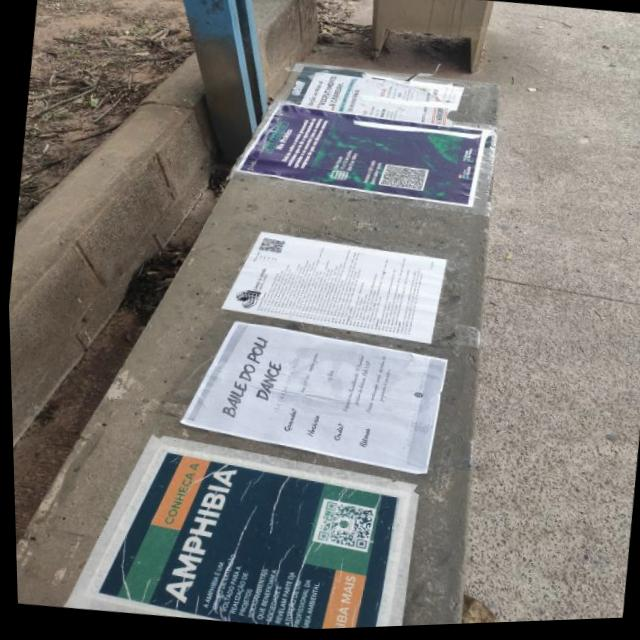qrcode: (313, 503, 372, 554), (379, 168, 426, 195), (257, 239, 285, 257)
